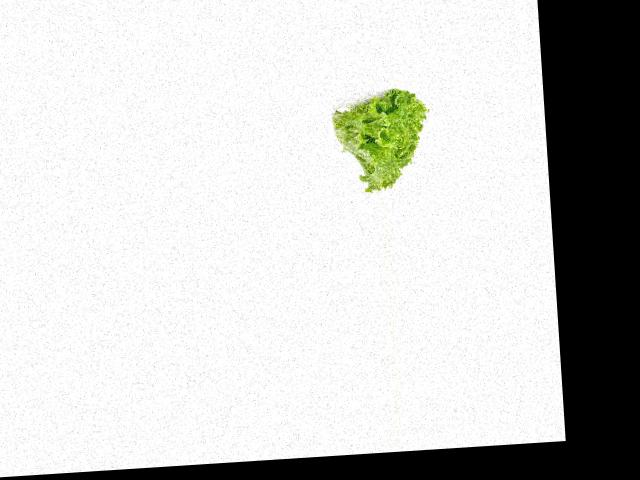lettuce: (324, 86, 439, 198)
